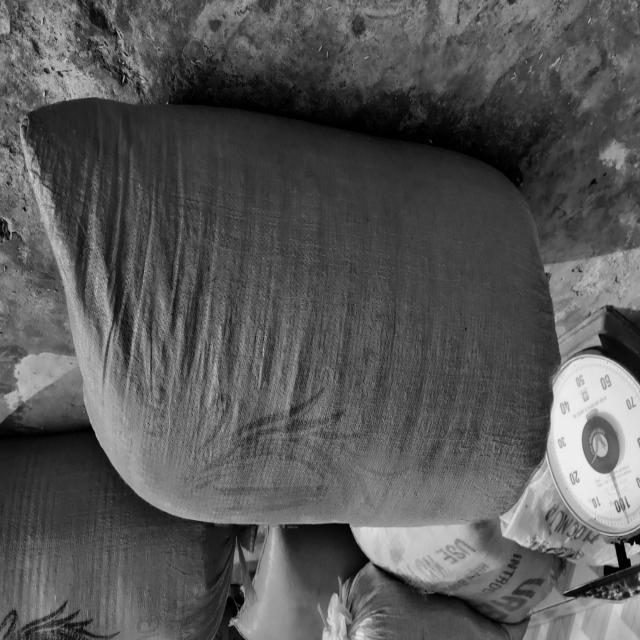gunny_bag: (22, 97, 560, 526)
